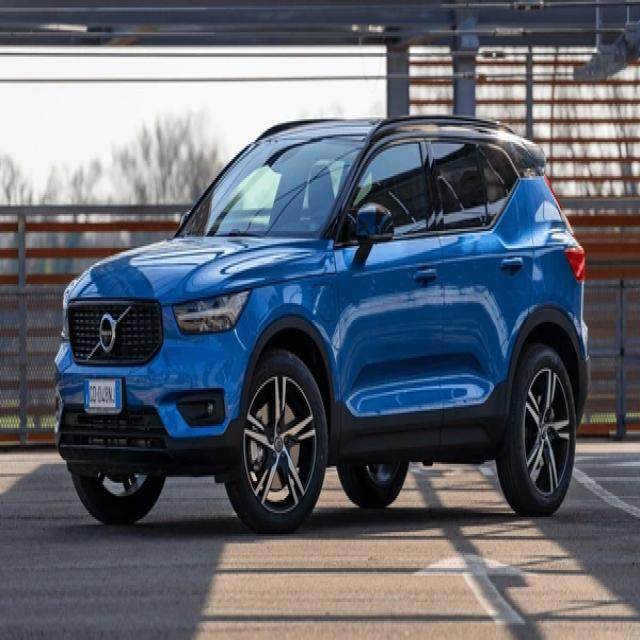volvo: (98, 311, 116, 353)
